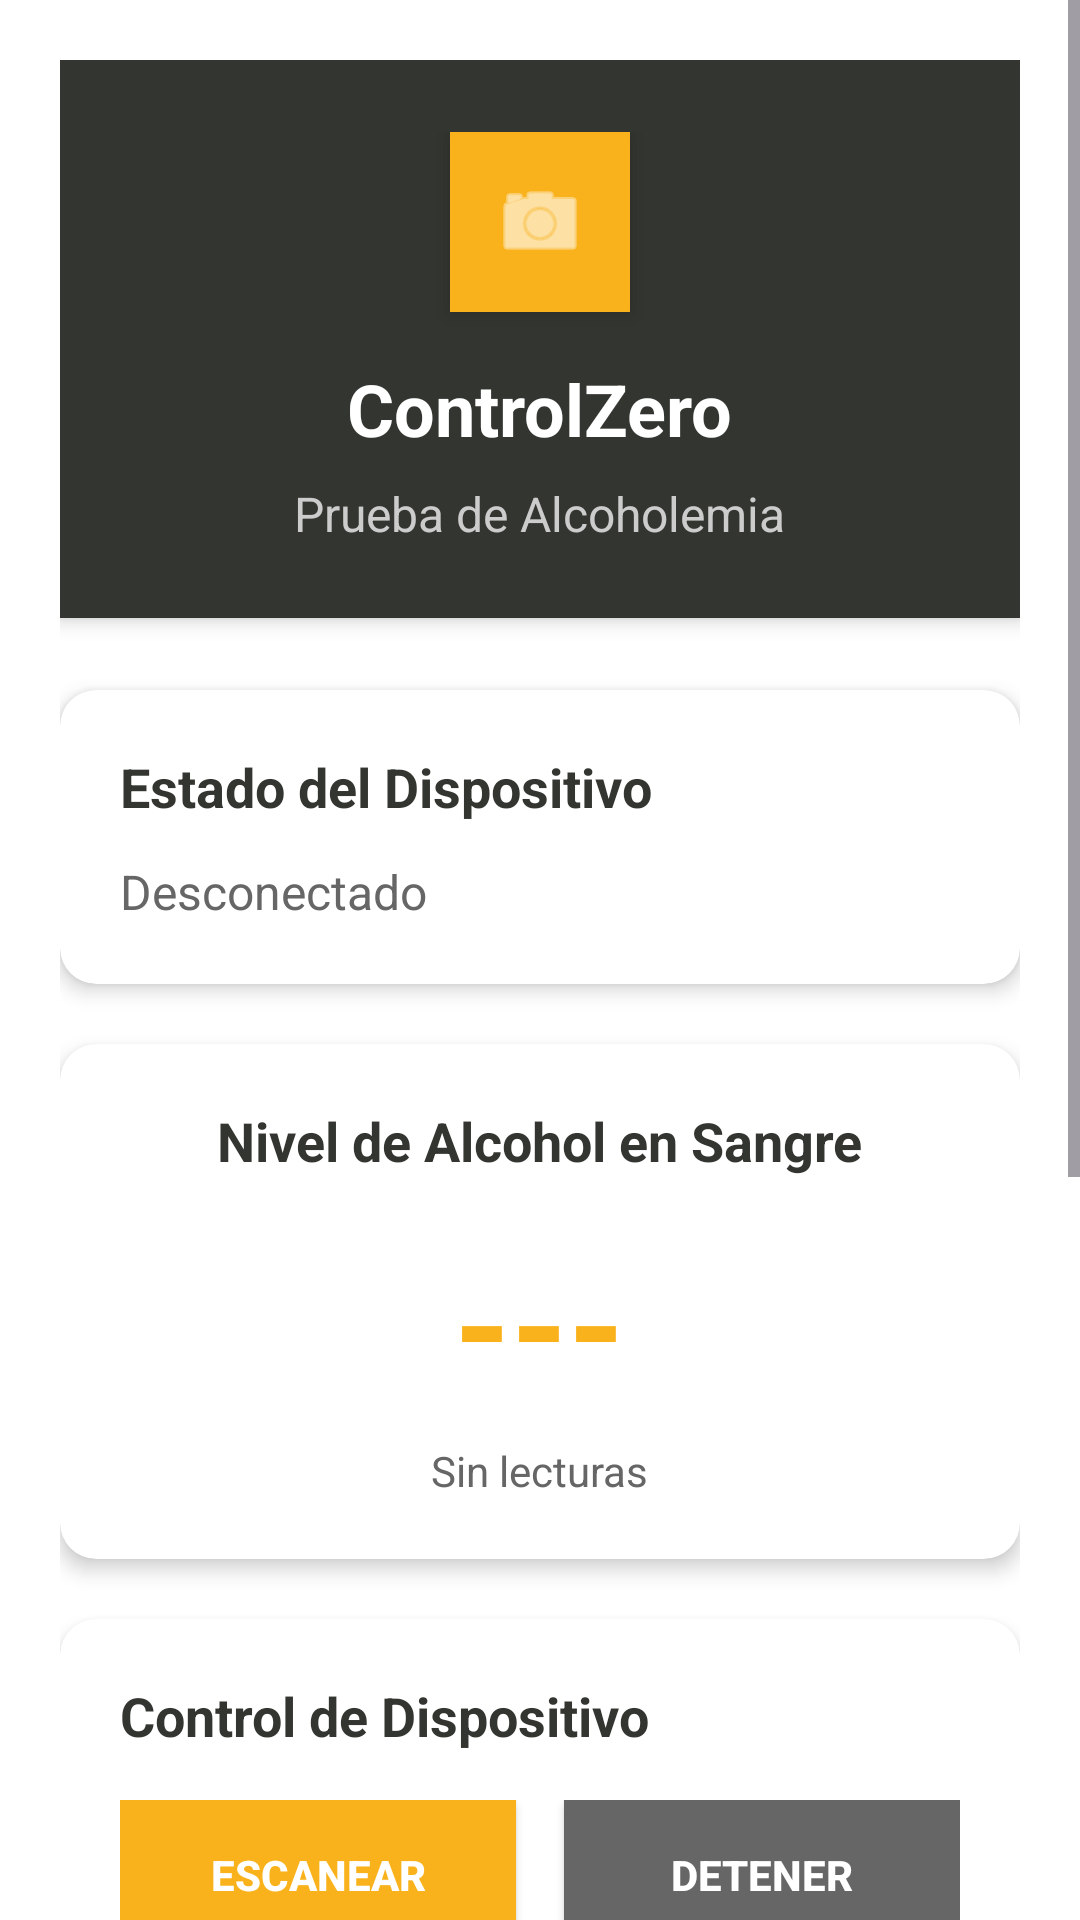

Icon click points for this 1080px×1920px phone screenshot, format [x,y]:
camera: [540,220]
